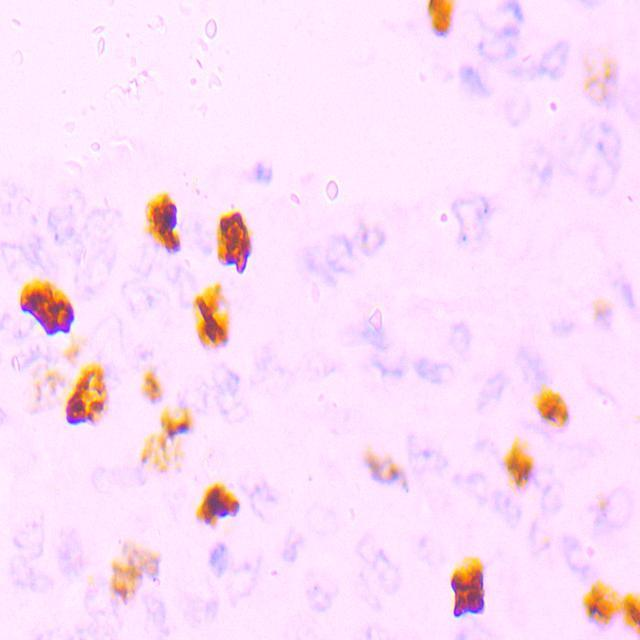Healthy cell: (199, 359, 246, 415), (1, 243, 48, 297), (2, 179, 47, 235), (449, 196, 492, 252), (2, 307, 42, 366), (72, 246, 115, 300), (482, 490, 529, 532), (123, 278, 167, 322), (585, 116, 628, 161), (412, 440, 447, 493), (519, 336, 558, 383), (178, 587, 220, 630), (442, 469, 486, 510), (540, 34, 576, 84), (302, 566, 336, 617), (320, 226, 354, 276), (13, 510, 48, 557), (556, 530, 592, 575), (51, 189, 78, 249), (250, 481, 289, 522), (478, 356, 506, 412), (86, 204, 123, 246), (539, 469, 570, 519), (373, 547, 408, 590), (415, 353, 455, 387), (357, 215, 393, 252), (446, 318, 479, 354), (454, 58, 482, 98), (210, 536, 233, 582), (375, 350, 408, 381), (526, 519, 553, 554)
cancer-cell-QiJm: (105, 538, 165, 602), (65, 360, 116, 432), (23, 280, 81, 340), (214, 206, 256, 273), (362, 439, 406, 502), (144, 193, 186, 257), (444, 555, 488, 616), (195, 478, 243, 532), (193, 282, 233, 344), (577, 53, 619, 108), (77, 590, 122, 640), (20, 362, 60, 417), (50, 516, 88, 570), (500, 430, 534, 488), (586, 578, 618, 639), (594, 485, 640, 527), (533, 383, 571, 433), (157, 404, 202, 446), (3, 554, 51, 590), (614, 581, 640, 640), (139, 434, 181, 468), (426, 0, 454, 40), (586, 292, 614, 328), (139, 366, 165, 404), (59, 339, 83, 368), (83, 570, 103, 590)
